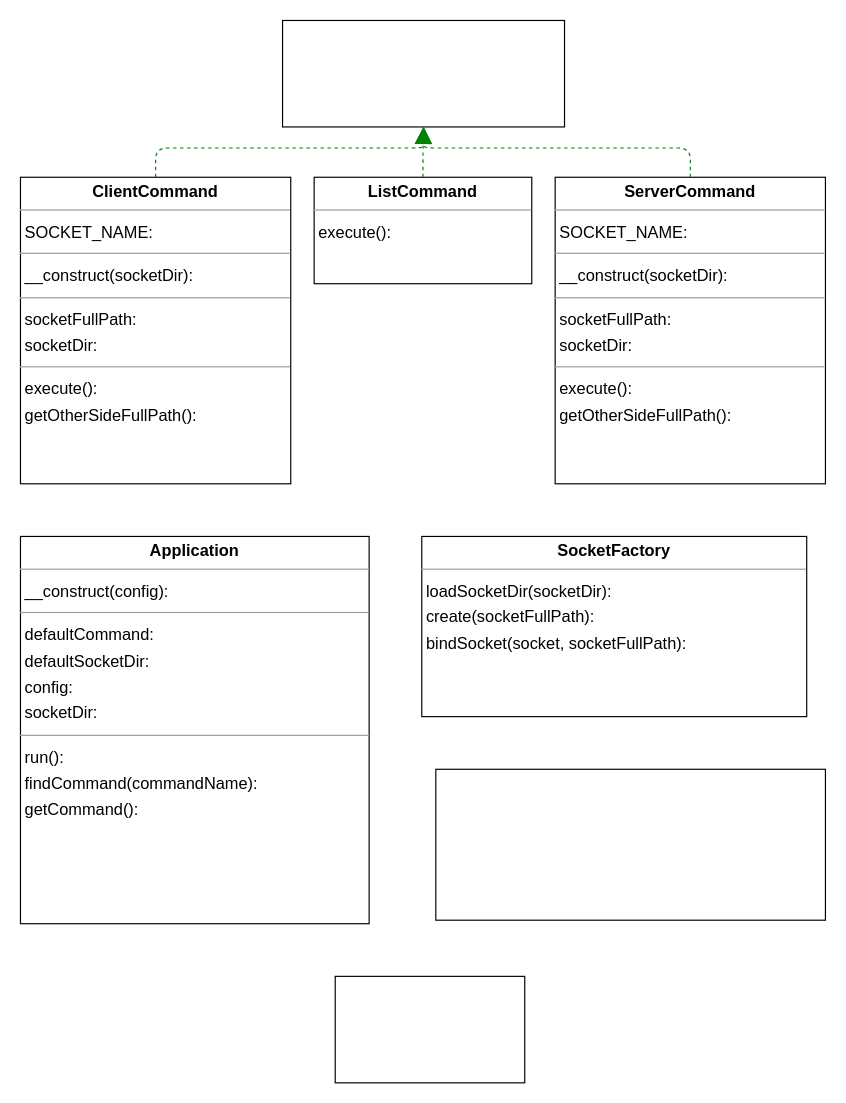
Image size: 846x1103. Some labels were removed from this diagram. Each missing label, with the centre of its shape:
AppFactory create():: the point at 429,1029
ChatSocket sendMessage(socket, message, to): getMessage(socket):: the point at 630,844
CommandInterface execute():: the point at 423,73
